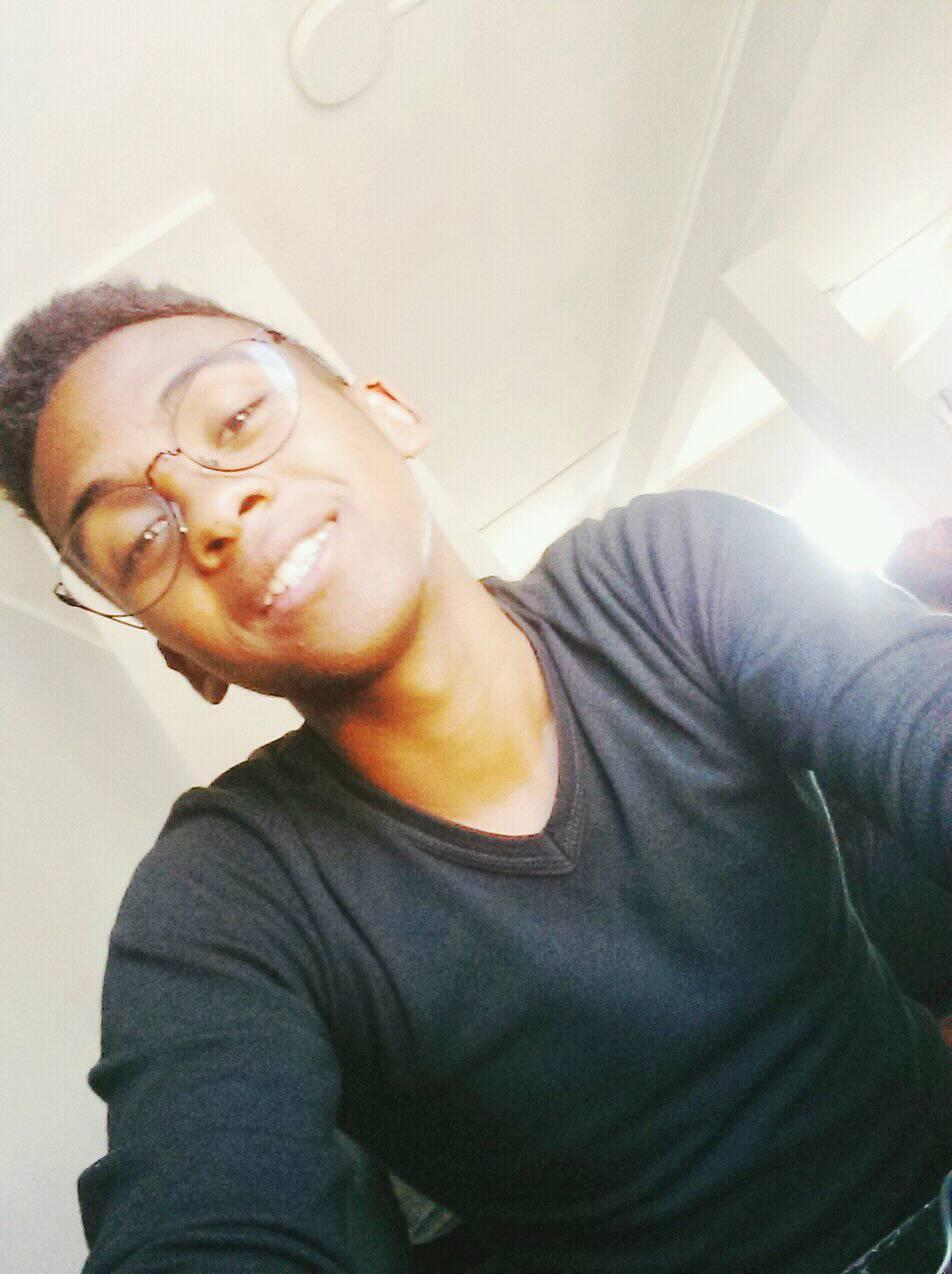BOY: (1, 273, 475, 726)
